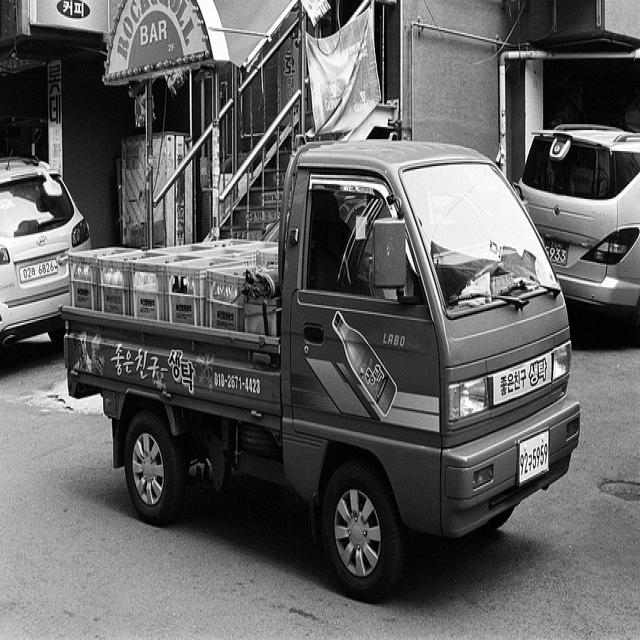car: (516, 124, 639, 319), (0, 157, 93, 365)
truck: (57, 136, 579, 601)
